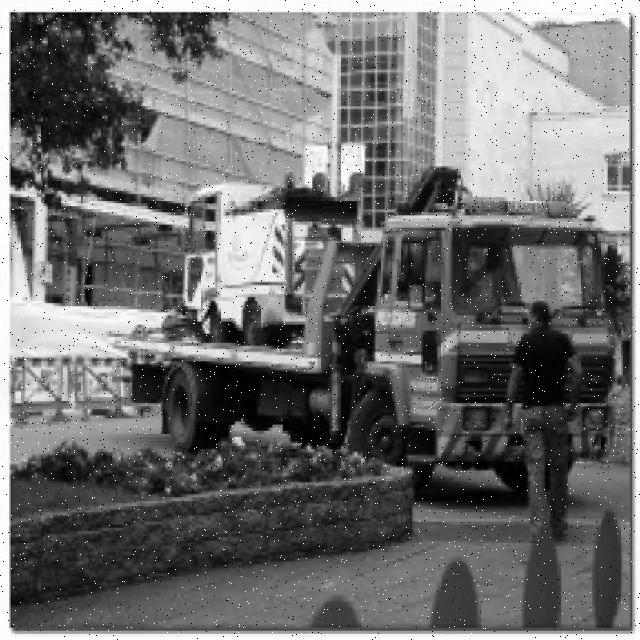Tow Truck: (106, 168, 616, 467)
